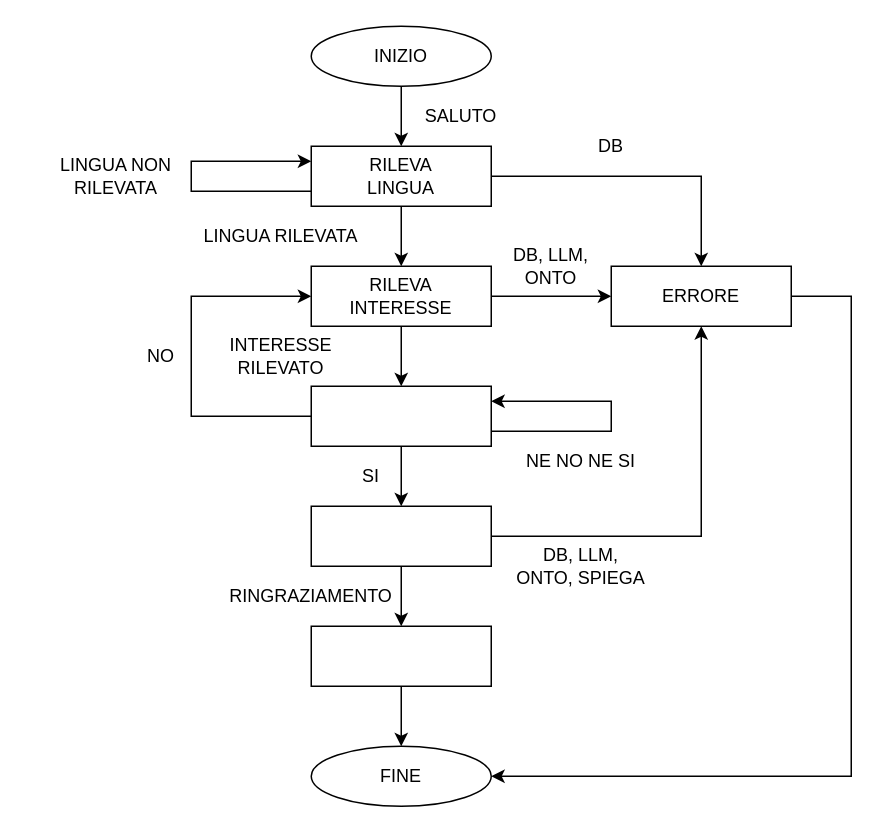
Some shapes in this 890 by 833 pixel diagram are drawn without their labels. The shapes that lost their labels are listed below. From the top down, each one's centre as x and y in pixels, then its label:
point 400,415: CONFERMA
point 400,535: SUGGERISCI EVENTO LOCALE
point 400,655: SALUTO FINALE
